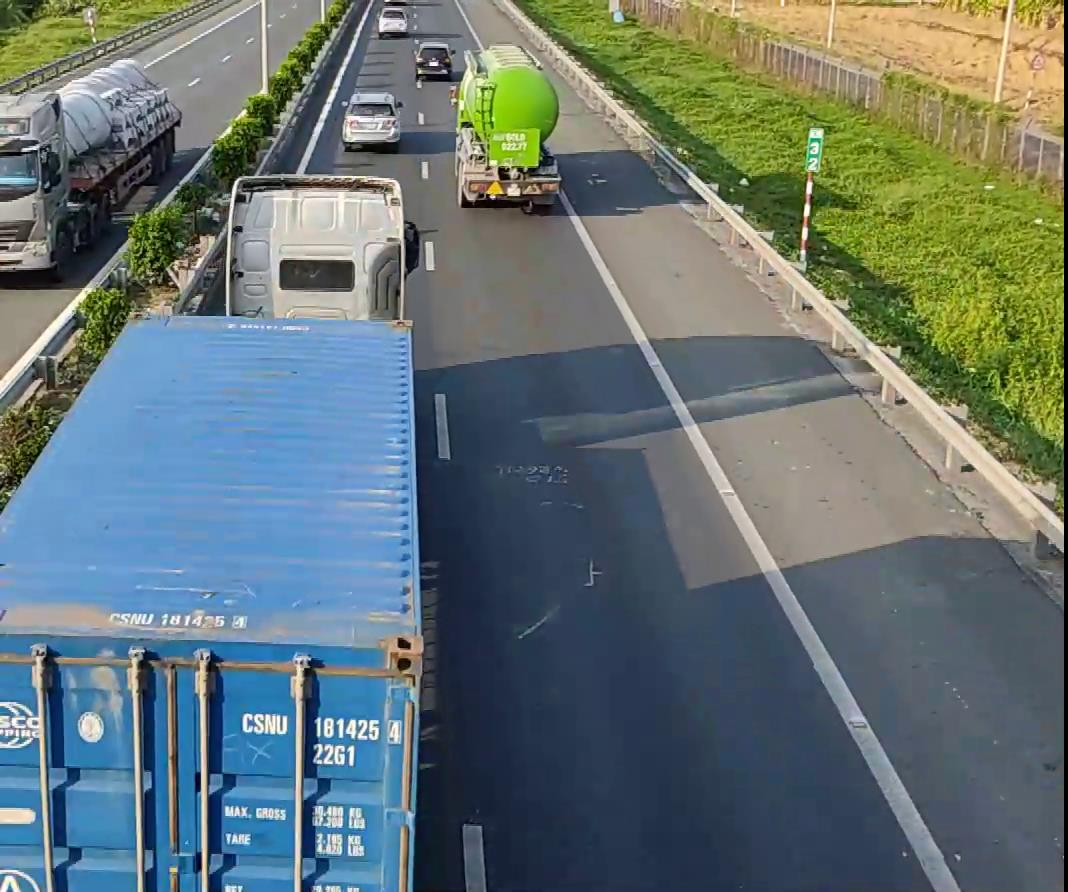container: (0, 172, 408, 891), (0, 64, 182, 277), (451, 43, 560, 210)
